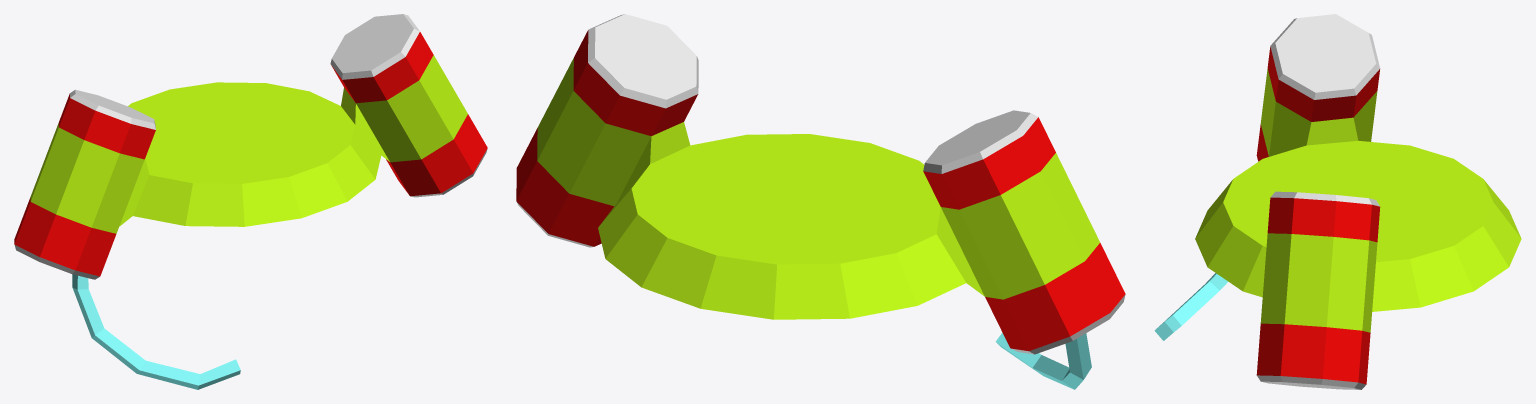
File: Drinks.fbx
3 renders of one model, left to right at view 1: azimuth 30°, elevation 25°; view 2: azimuth 150°, elevation 25°; view 3: azimuth 270°, elevation 25°, orthographic. The views are drawn at different scales.
Parts seen in each view (by area): view 1: Hat_drinks; view 2: Hat_drinks; view 3: Hat_drinks.
Boxes of the visible parts, x1,y1,x2,y2 form: Hat_drinks: (14,14,487,389); Hat_drinks: (516,14,1125,389); Hat_drinks: (1154,14,1521,389).
Bounding box in the file's own units: 107 × 56.88 × 65.32.
